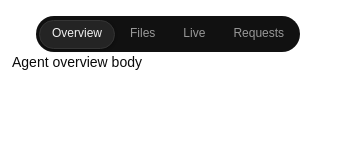
Test: the session's work tabs › says plainly what a new chat has
Click the tab "Live": (194, 34) [170,20,218,48]
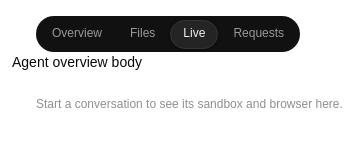
Expected: the text "Start a conversation to see its sandbox and browser here." is shown, [36,97,343,111]
Click the tab "Requests": (259, 34) [220,20,297,48]
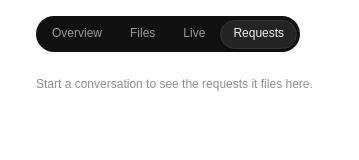
Expected: the text "Start a conversation to see the requests it files here." is shown, [36,77,313,91]
